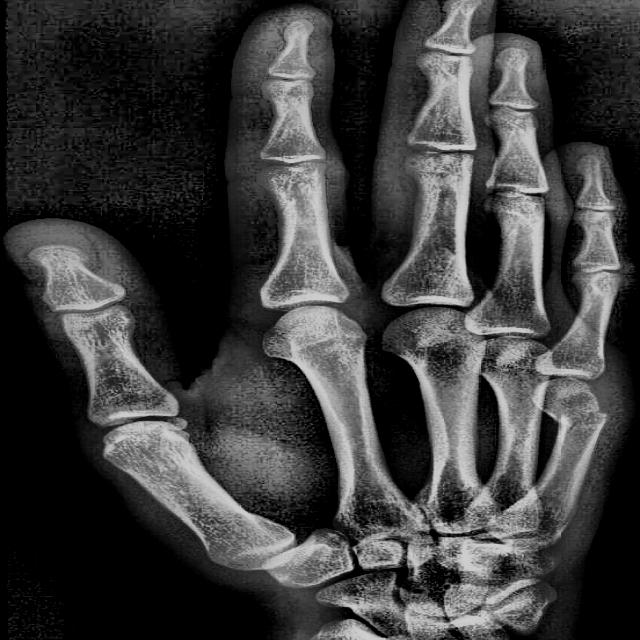fracture: (553, 405, 608, 433)
